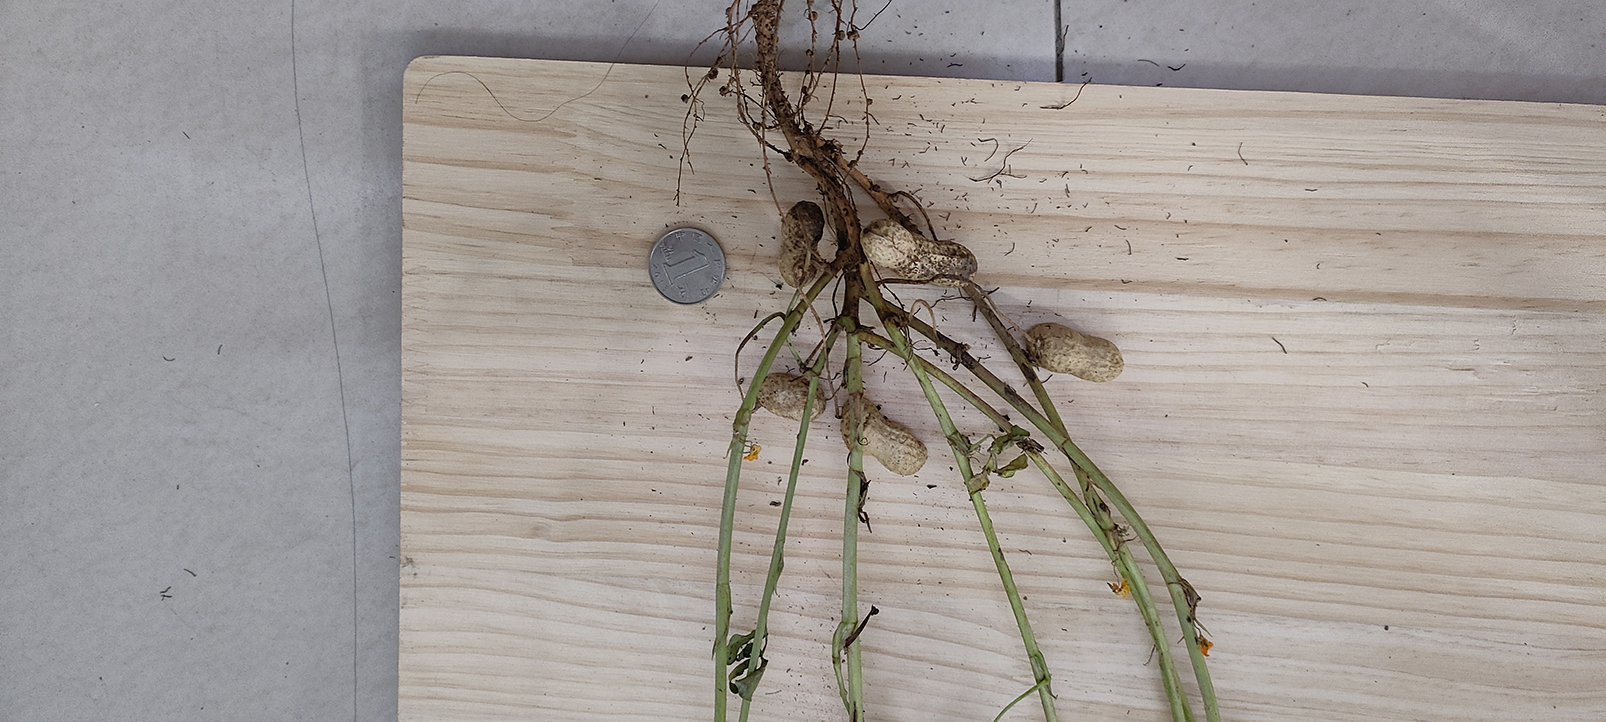h: (856, 218, 977, 285), (839, 398, 928, 475), (1028, 324, 1125, 384), (758, 374, 825, 419)
l: (781, 202, 825, 284)
